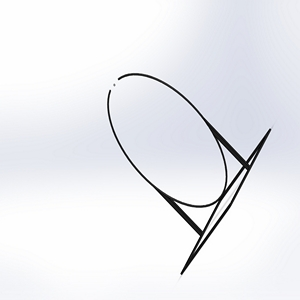circle: (105, 69, 274, 276)
